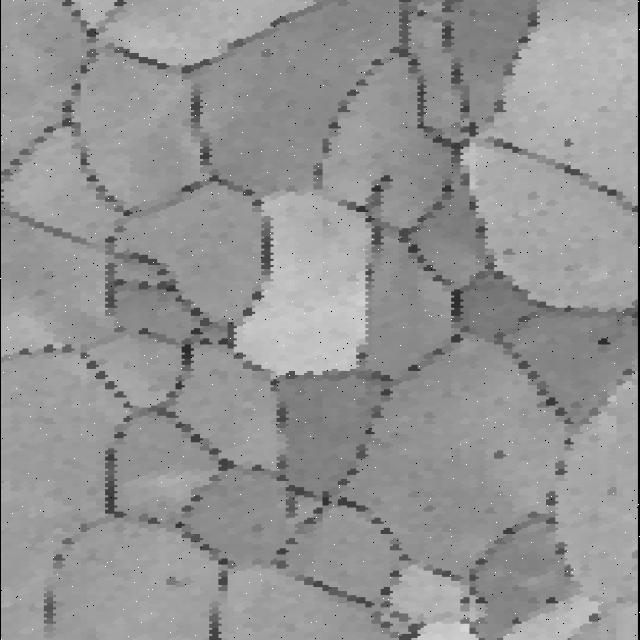good_void: (243, 520, 270, 542), (160, 574, 190, 593), (488, 443, 510, 463), (591, 333, 612, 350), (558, 136, 578, 149), (257, 45, 273, 61)
